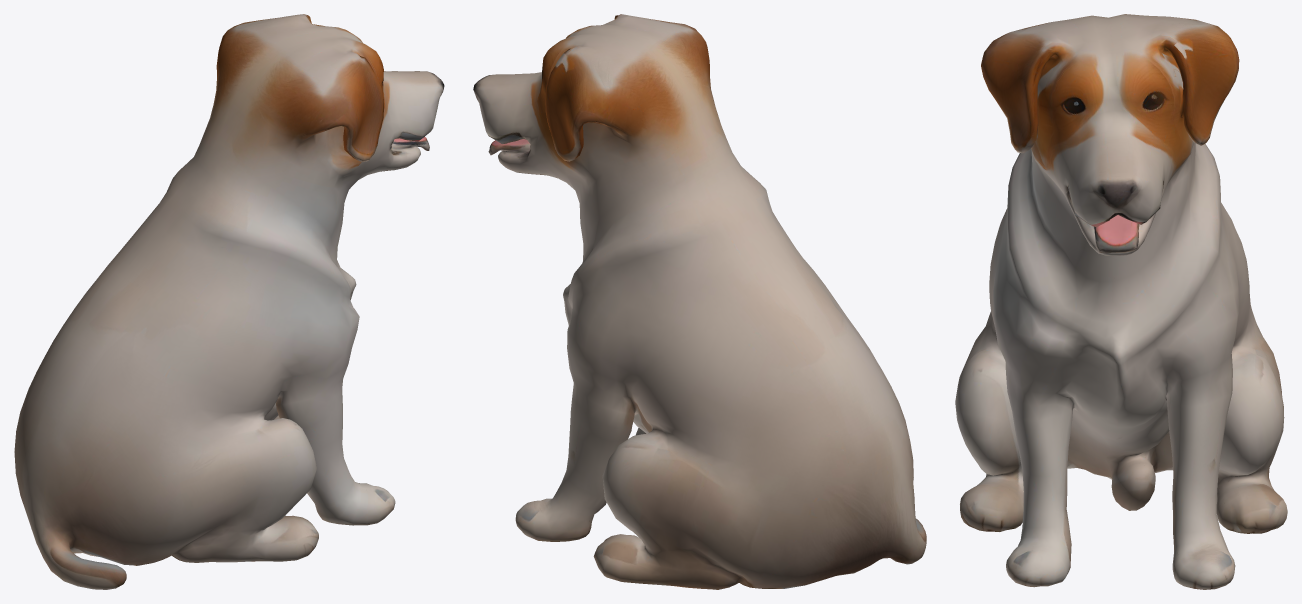
3 renders of one model, left to right at view 1: azimuth 30°, elevation 25°; view 2: azimuth 150°, elevation 25°; view 3: azimuth 270°, elevation 25°, orthographic. The views are drawn at different scales.
Visible parts, largest first — view 1: tripo_node_5007248e; view 2: tripo_node_5007248e; view 3: tripo_node_5007248e.
Boxes of the visible parts, x1,y1,x2,y2 form: tripo_node_5007248e: (14,14,444,589); tripo_node_5007248e: (473,14,926,589); tripo_node_5007248e: (955,14,1287,589).
Size of the model in its own units: 0.9368 by 0.9994 by 0.5557.
